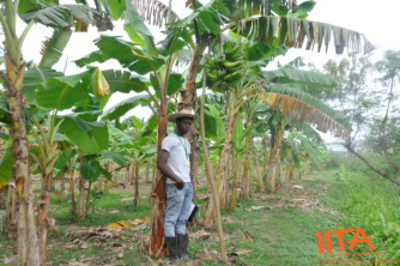bananaHand: (204, 41, 248, 94)
